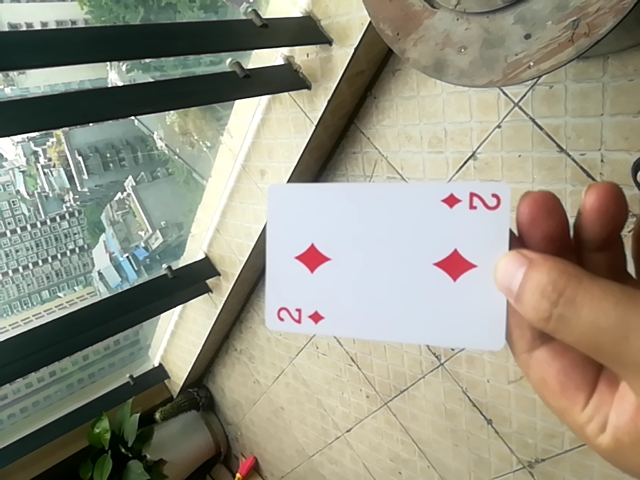fk 2: (263, 177, 510, 353)
